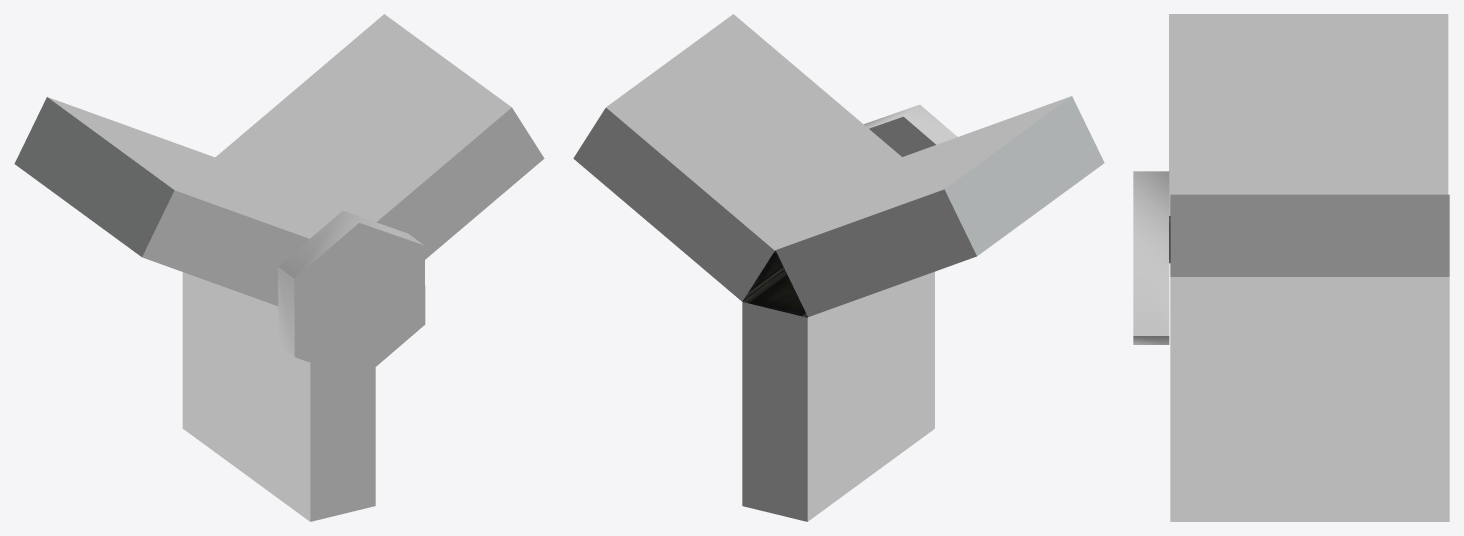
File: utl28b.obj
The picture shows the model from 3 angles, left to right: view 1: azimuth 30°, elevation 25°; view 2: azimuth 150°, elevation 25°; view 3: azimuth 270°, elevation 25°; orthographic projection. The views are drawn at different scales.
Visible parts, largest first — view 1: frm-fuselg3, frm-fuselg1, frm-fuselg2, frm-ffuselg; view 2: frm-fuselg3, frm-fuselg1, frm-fuselg2, frm-ffuselg; view 3: frm-fuselg1, frm-fuselg2, frm-fuselg3, frm-ffuselg.
Part boxes in pixels (box(x1,y1,x2,y2)): frm-fuselg3: box(215, 14, 544, 259); frm-fuselg1: box(182, 272, 375, 521); frm-fuselg2: box(14, 97, 317, 305); frm-ffuselg: box(278, 211, 425, 380); frm-fuselg3: box(573, 14, 902, 301); frm-fuselg1: box(742, 270, 934, 521); frm-fuselg2: box(775, 96, 1104, 317); frm-ffuselg: box(864, 104, 957, 156); frm-fuselg1: box(1170, 298, 1449, 521); frm-fuselg2: box(1169, 14, 1448, 263); frm-fuselg3: box(1170, 194, 1449, 298); frm-ffuselg: box(1133, 171, 1169, 344).
Size of what is drawn, in the model's own units: 70.58 by 61.13 by 43.82.
